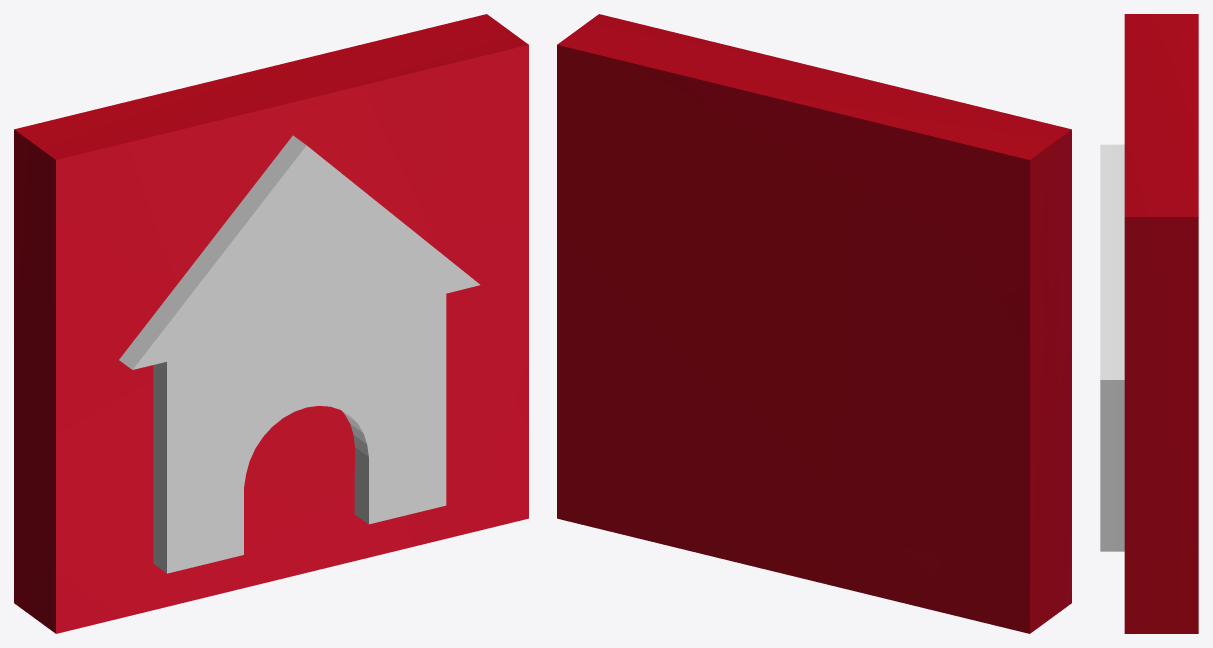
The model's file is b5bce6fa-dc53-48d6-b78e-7ff21d71d766.glb.
3 views of the same model, side by side, from view 1: azimuth 30°, elevation 25°; view 2: azimuth 150°, elevation 25°; view 3: azimuth 270°, elevation 25° (orthographic). The views are drawn at different scales.
Parts seen in each view (by area): view 1: homeButtonSquareRed; view 2: homeButtonSquareRed; view 3: homeButtonSquareRed.
Part boxes in pixels (bbox=[...]): homeButtonSquareRed: bbox=[14, 14, 528, 633]; homeButtonSquareRed: bbox=[557, 14, 1071, 633]; homeButtonSquareRed: bbox=[1100, 14, 1198, 633].
Size of what is drawn, in the model's own units: 0.2009 by 0.1924 by 0.041.
1 material, 1 textured.
